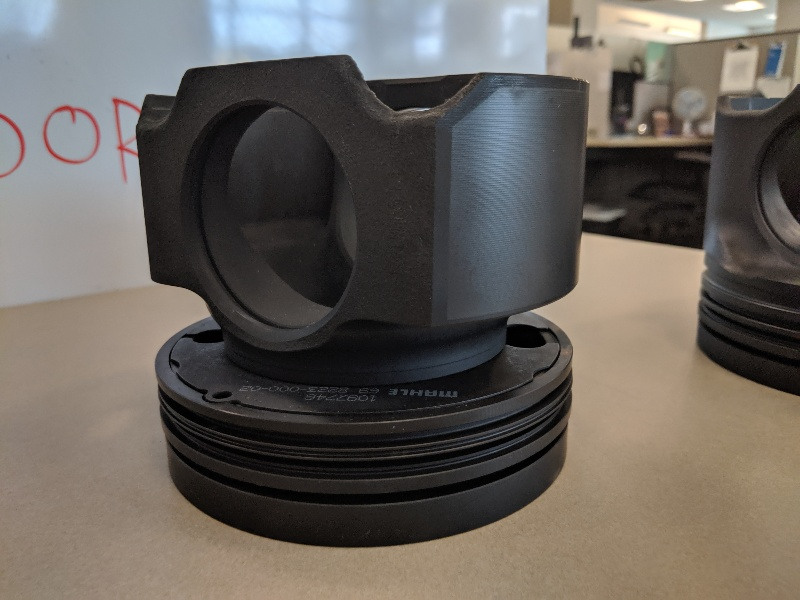piston: (125, 44, 596, 553)
